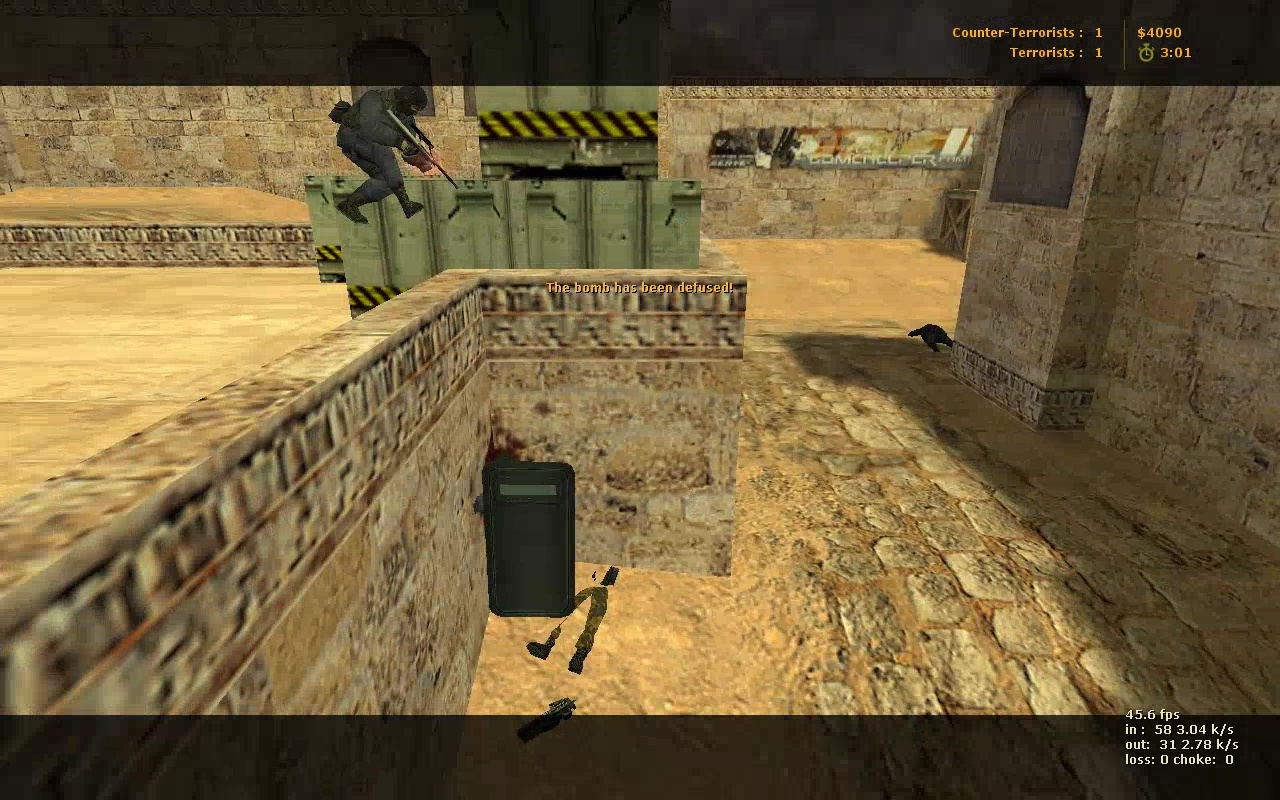ct: (479, 454, 577, 621), (334, 87, 430, 224)
dead: (911, 322, 962, 353)
